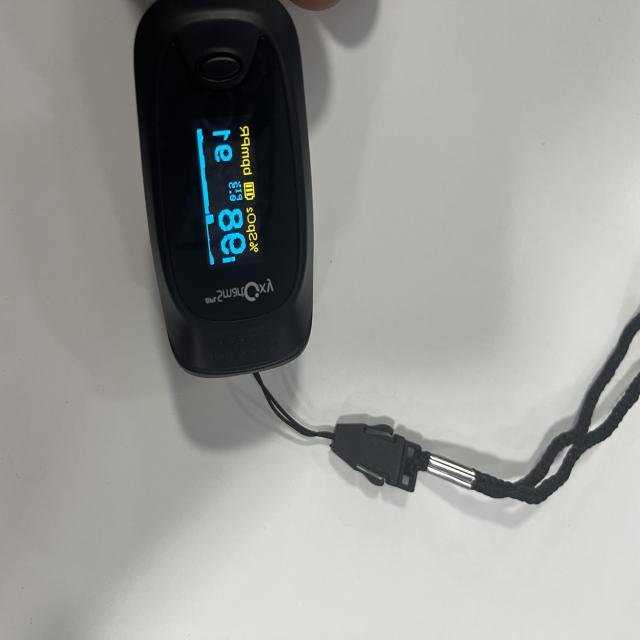spo2: (133, 0, 316, 380)
